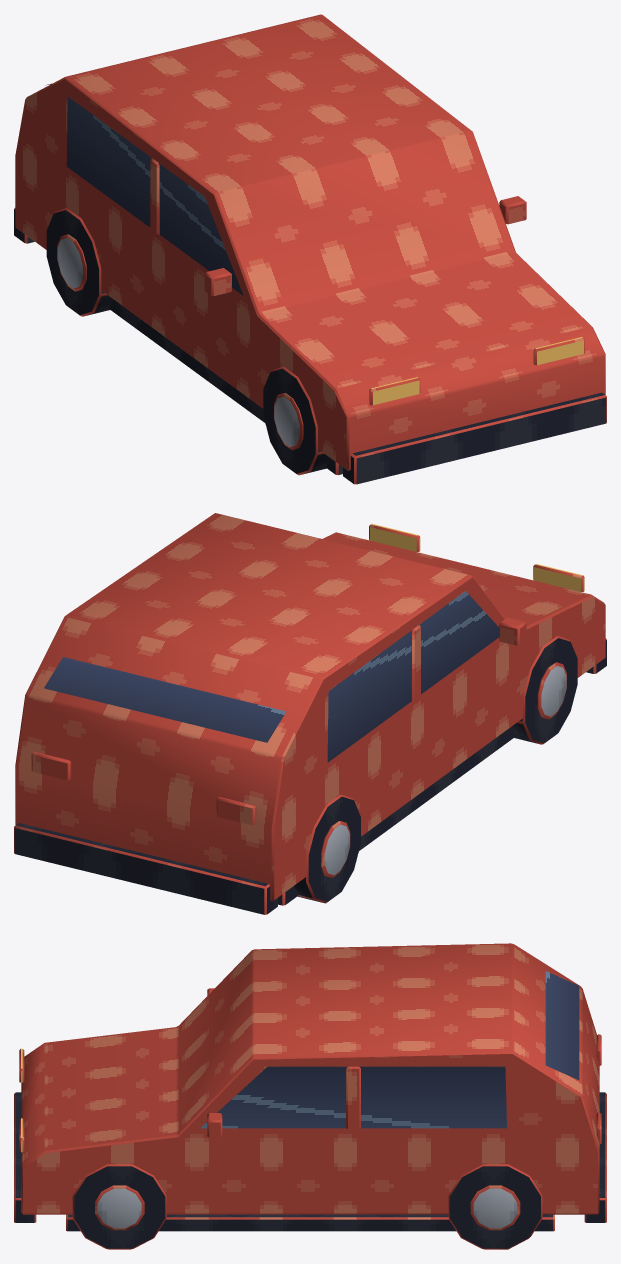
Rendered from car_0.glb.
The picture shows the model from 3 angles, top to bottom: view 1: azimuth 30°, elevation 25°; view 2: azimuth 150°, elevation 25°; view 3: azimuth 270°, elevation 25°; orthographic projection. The views are drawn at different scales.
Visible parts, largest first — view 1: car_1; view 2: car_1; view 3: car_1.
Boxes of the visible parts, left/top/right/bottom form: car_1: left=14, top=14, right=606, bottom=484; car_1: left=14, top=513, right=606, bottom=914; car_1: left=14, top=943, right=606, bottom=1249.
Size of the model in its own units: 2.13 by 1.47 by 4.
5 materials, 5 textured.
